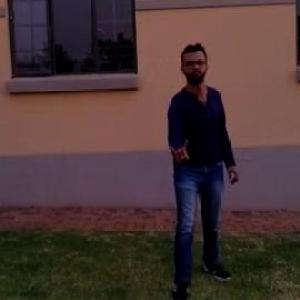takeoff-hand: (166, 134, 194, 168)
